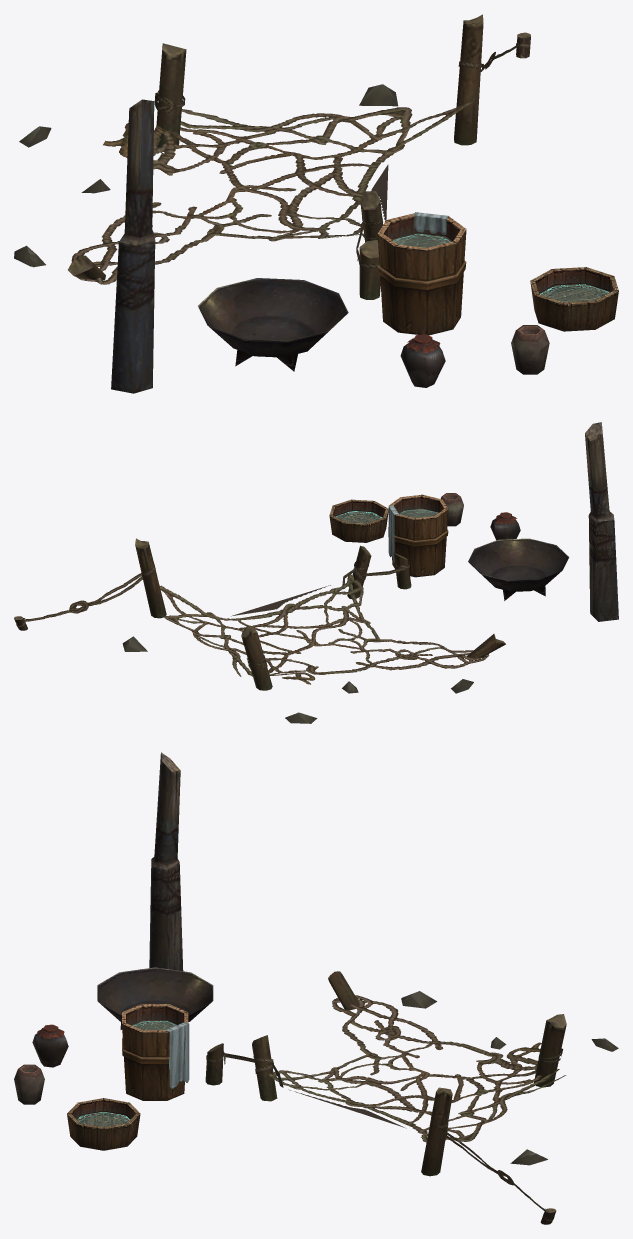
Rendered from 2_LRL_ShengHuoXiaoWuJian_01.FBX.
3 renders of one model, top to bottom at view 1: azimuth 30°, elevation 25°; view 2: azimuth 150°, elevation 25°; view 3: azimuth 270°, elevation 25°, orthographic. The views are drawn at different scales.
Visible parts, largest first — view 1: 2_LRL_YeWaiWangDou_01, 2_LRL_DaiShengZhuangZi_01, 2_LRL_ShouJinMuTong_01, 2_LRL_DaTieGuo_01, 2_LRL_YouShuiMuPen_01, 2_LRL_HongBuJiuTanZi_01, 2_LRL_WuGaiGuanZi_01; view 2: 2_LRL_YeWaiWangDou_01, 2_LRL_DaiShengZhuangZi_01, 2_LRL_ShouJinMuTong_01, 2_LRL_DaTieGuo_01, 2_LRL_YouShuiMuPen_01, 2_LRL_HongBuJiuTanZi_01, 2_LRL_WuGaiGuanZi_01; view 3: 2_LRL_YeWaiWangDou_01, 2_LRL_ShouJinMuTong_01, 2_LRL_DaiShengZhuangZi_01, 2_LRL_DaTieGuo_01, 2_LRL_YouShuiMuPen_01, 2_LRL_HongBuJiuTanZi_01, 2_LRL_WuGaiGuanZi_01.
Part boxes in pixels (<box>): 2_LRL_YeWaiWangDou_01: <box>14,14,530,299</box>; 2_LRL_DaiShengZhuangZi_01: <box>111,99,155,393</box>; 2_LRL_ShouJinMuTong_01: <box>377,212,466,335</box>; 2_LRL_DaTieGuo_01: <box>198,278,348,371</box>; 2_LRL_YouShuiMuPen_01: <box>530,267,618,331</box>; 2_LRL_HongBuJiuTanZi_01: <box>400,334,445,387</box>; 2_LRL_WuGaiGuanZi_01: <box>511,325,549,374</box>; 2_LRL_YeWaiWangDou_01: <box>14,538,505,723</box>; 2_LRL_DaiShengZhuangZi_01: <box>585,422,618,621</box>; 2_LRL_ShouJinMuTong_01: <box>388,494,448,577</box>; 2_LRL_DaTieGuo_01: <box>468,538,569,600</box>; 2_LRL_YouShuiMuPen_01: <box>329,499,388,542</box>; 2_LRL_HongBuJiuTanZi_01: <box>490,512,520,540</box>; 2_LRL_WuGaiGuanZi_01: <box>440,493,463,526</box>; 2_LRL_YeWaiWangDou_01: <box>205,971,618,1224</box>; 2_LRL_ShouJinMuTong_01: <box>122,1004,189,1100</box>; 2_LRL_DaiShengZhuangZi_01: <box>149,752,183,970</box>; 2_LRL_DaTieGuo_01: <box>97,967,213,1029</box>; 2_LRL_YouShuiMuPen_01: <box>67,1098,140,1150</box>; 2_LRL_HongBuJiuTanZi_01: <box>32,1024,68,1067</box>; 2_LRL_WuGaiGuanZi_01: <box>14,1064,44,1104</box>.
Size of the model in its own units: 1004 by 423 by 994.
